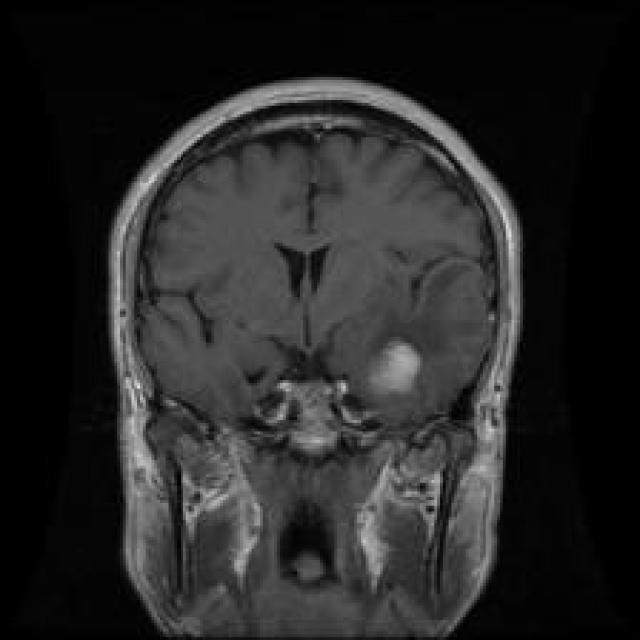meningioma_tumor: (352, 322, 438, 417)
